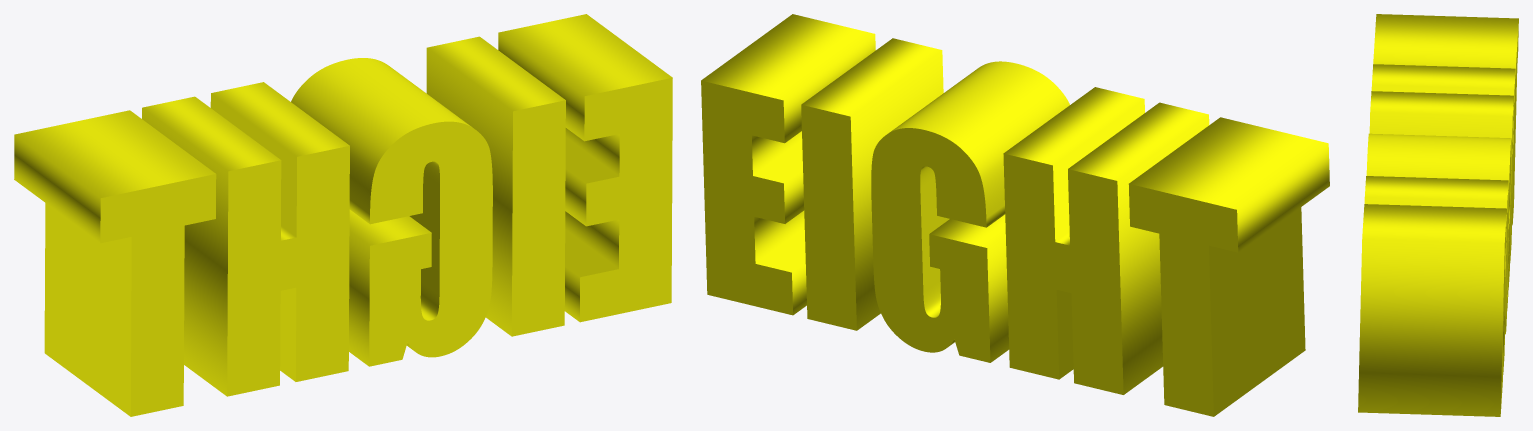
File: 3_Eight.glb
The picture shows the model from 3 angles, left to right: view 1: azimuth 30°, elevation 25°; view 2: azimuth 150°, elevation 25°; view 3: azimuth 270°, elevation 25°; orthographic projection. The views are drawn at different scales.
Visible parts, largest first — view 1: 1; view 2: 1; view 3: 1.
Part boxes in pixels (bbox=[...]): 1: bbox=[14, 14, 672, 416]; 1: bbox=[701, 14, 1329, 416]; 1: bbox=[1358, 14, 1518, 416].
Size of the model in its own units: 1.23 by 0.4903 by 0.3831.
